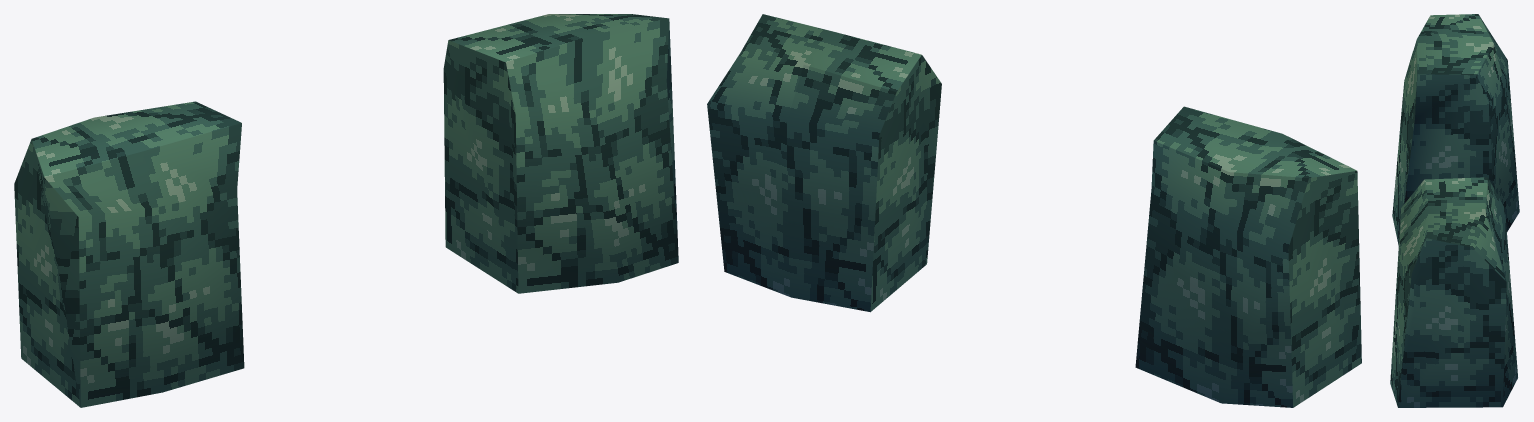
Rendered from mnat.hedgerow__gap.glb.
3 renders of one model, left to right at view 1: azimuth 30°, elevation 25°; view 2: azimuth 150°, elevation 25°; view 3: azimuth 270°, elevation 25°, orthographic. The views are drawn at different scales.
Parts seen in each view (by area): view 1: kit_hedge; view 2: kit_hedge; view 3: kit_hedge.
Boxes of the visible parts, left/top/right/bottom form: kit_hedge: left=14, top=14, right=678, bottom=407; kit_hedge: left=707, top=14, right=1361, bottom=407; kit_hedge: left=1390, top=14, right=1519, bottom=407.
Size of the model in its own units: 4.1 by 1.46 by 0.9691.
1 material, 1 textured.
